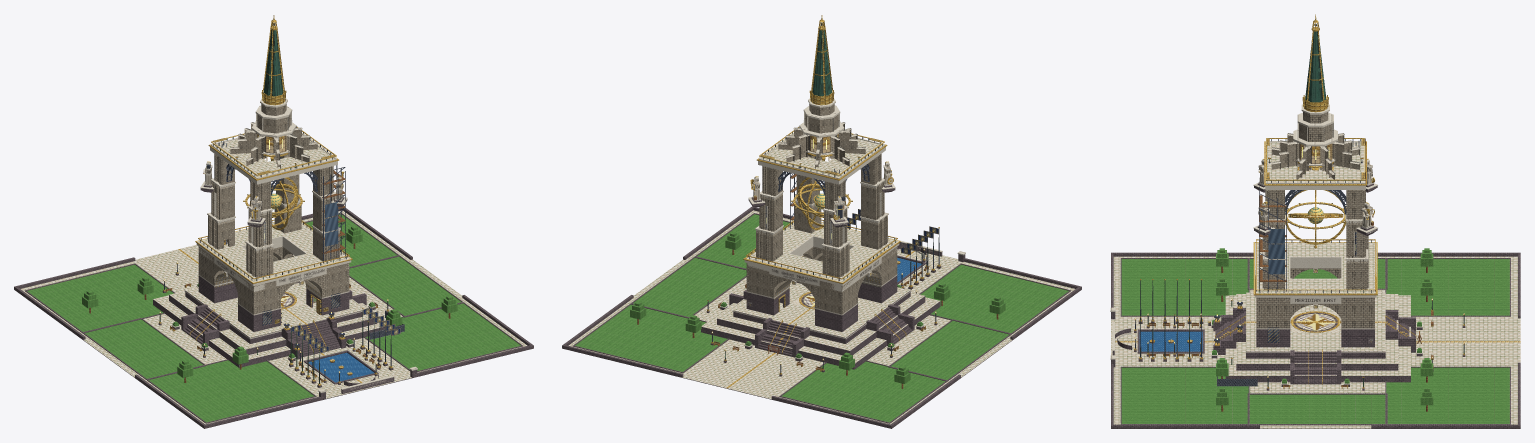
File: great-meridian-1976.glb
The picture shows the model from 3 angles, left to right: view 1: azimuth 30°, elevation 25°; view 2: azimuth 150°, elevation 25°; view 3: azimuth 270°, elevation 25°; orthographic projection. The views are drawn at different scales.
Parts seen in each view (by area): view 1: lot_ground, structure, floor_plaza, floor_rotunda_plaza, floor_cornice_gallery, floor_observation_deck, floor_stairs_pz, armillary_outer; view 2: lot_ground, structure, floor_plaza, floor_rotunda_plaza, floor_cornice_gallery, floor_observation_deck, floor_stairs_mz, armillary_outer; view 3: lot_ground, structure, floor_plaza, floor_rotunda_plaza, floor_cornice_gallery, floor_observation_deck, floor_stairs_px, armillary_outer, floor_stairs_pz.
Boxes of the visible parts, left/top/right/bottom form: lot_ground: left=14, top=207, right=533, bottom=428; structure: left=153, top=15, right=385, bottom=367; floor_plaza: left=20, top=211, right=527, bottom=424; floor_rotunda_plaza: left=185, top=281, right=362, bottom=337; floor_cornice_gallery: left=198, top=222, right=349, bottom=281; floor_observation_deck: left=214, top=135, right=334, bottom=177; floor_stairs_pz: left=290, top=319, right=339, bottom=355; armillary_outer: left=243, top=156, right=304, bottom=230; lot_ground: left=562, top=206, right=1081, bottom=428; structure: left=701, top=15, right=940, bottom=369; floor_plaza: left=568, top=210, right=1075, bottom=424; floor_rotunda_plaza: left=733, top=281, right=910, bottom=337; floor_cornice_gallery: left=746, top=222, right=897, bottom=281; floor_observation_deck: left=761, top=135, right=881, bottom=177; floor_stairs_mz: left=758, top=320, right=804, bottom=355; armillary_outer: left=791, top=156, right=852, bottom=230; lot_ground: left=1110, top=252, right=1520, bottom=428; structure: left=1213, top=14, right=1416, bottom=384; floor_plaza: left=1111, top=256, right=1520, bottom=428; floor_rotunda_plaza: left=1246, top=292, right=1385, bottom=351; floor_cornice_gallery: left=1256, top=242, right=1375, bottom=293; floor_observation_deck: left=1267, top=142, right=1364, bottom=182; floor_stairs_px: left=1294, top=352, right=1336, bottom=382; armillary_outer: left=1285, top=166, right=1346, bottom=245; floor_stairs_pz: left=1215, top=311, right=1245, bottom=344.
Size of what is drawn, in the model's own units: 120 by 107 by 120.
12 materials, 12 textured.
